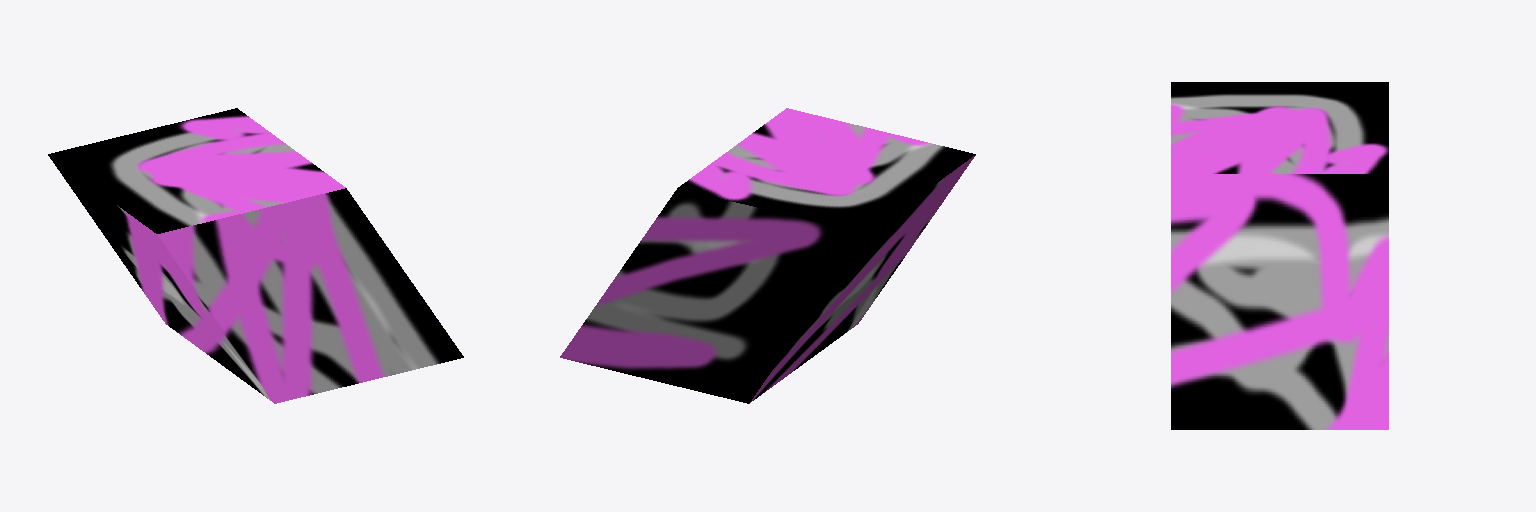
3 views of the same model, side by side, from view 1: azimuth 30°, elevation 25°; view 2: azimuth 150°, elevation 25°; view 3: azimuth 270°, elevation 25° (orthographic).
Parts seen in each view (by area): view 1: Cube1; view 2: Cube1; view 3: Cube1.
Part boxes in pixels (left/top/right/bottom): Cube1: left=48, top=108, right=463, bottom=403; Cube1: left=560, top=108, right=975, bottom=403; Cube1: left=1171, top=82, right=1388, bottom=429.
Bounding box in the file's own units: 3.24 × 2 × 2.
1 materials, 1 textured.